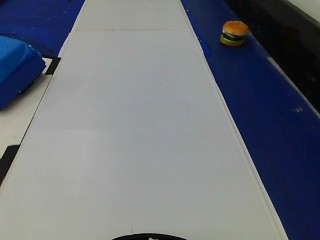burger: (214, 12, 256, 56)
